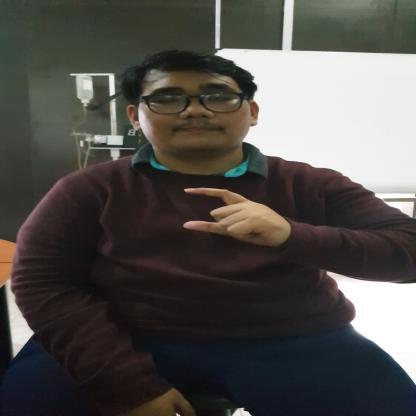C: (182, 186, 290, 244)
